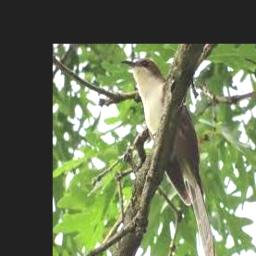Cuckoo: (121, 59, 217, 256)
